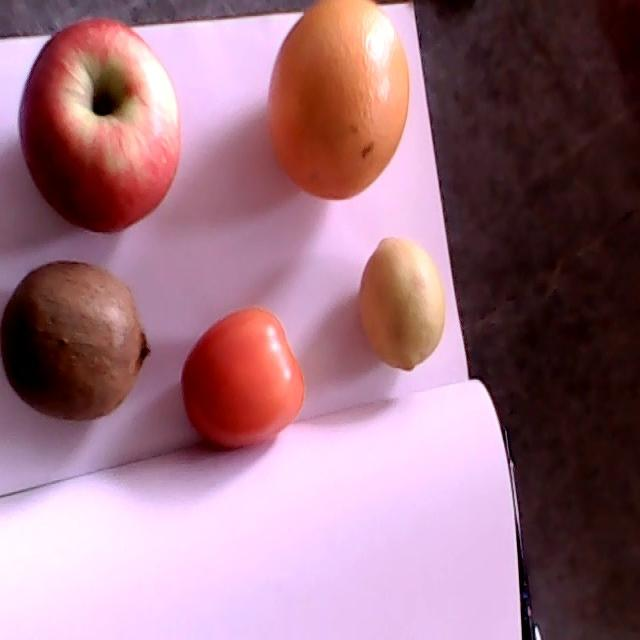apple: (19, 19, 178, 234)
kiwi: (0, 262, 151, 422)
lemon: (360, 237, 445, 370)
orange: (267, 0, 409, 199)
tomato: (180, 305, 306, 450)
